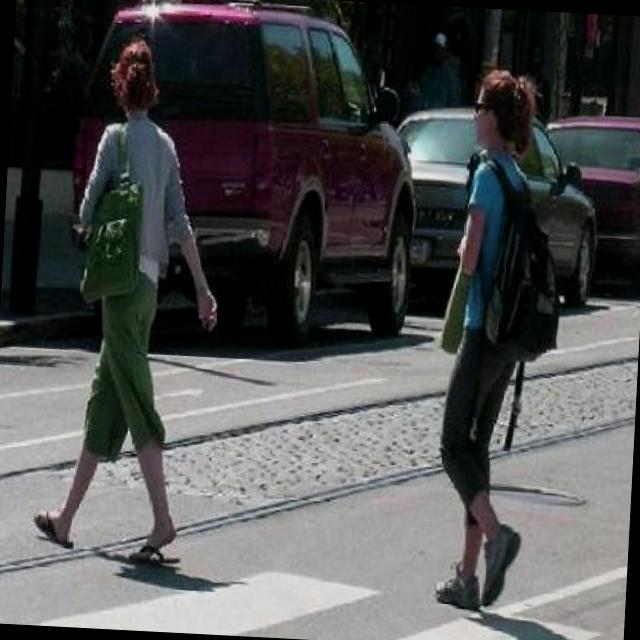Person: (22, 36, 232, 572), (418, 54, 566, 612)
